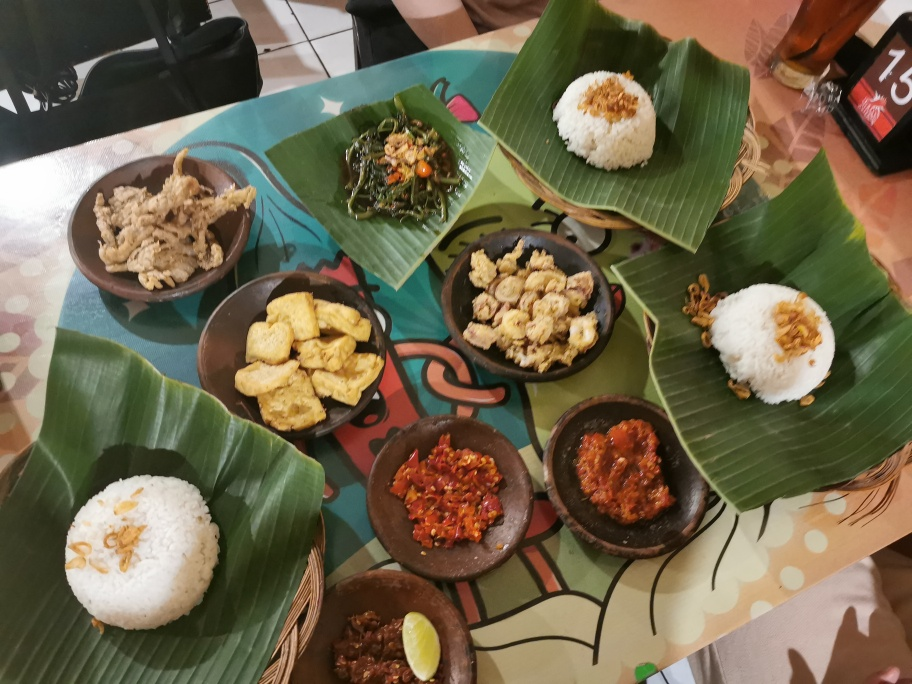nasi putih: (61, 471, 221, 634), (712, 279, 835, 415), (554, 70, 660, 174)
